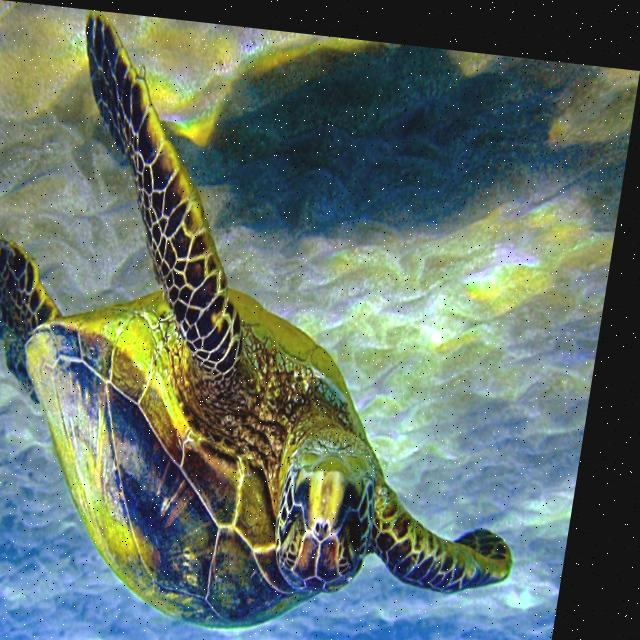sea turtle: (0, 202, 389, 635), (47, 7, 306, 338), (267, 389, 407, 602), (379, 450, 551, 608)
